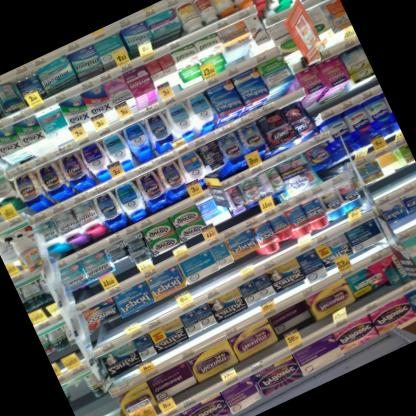empty_space: (64, 378, 101, 416)
